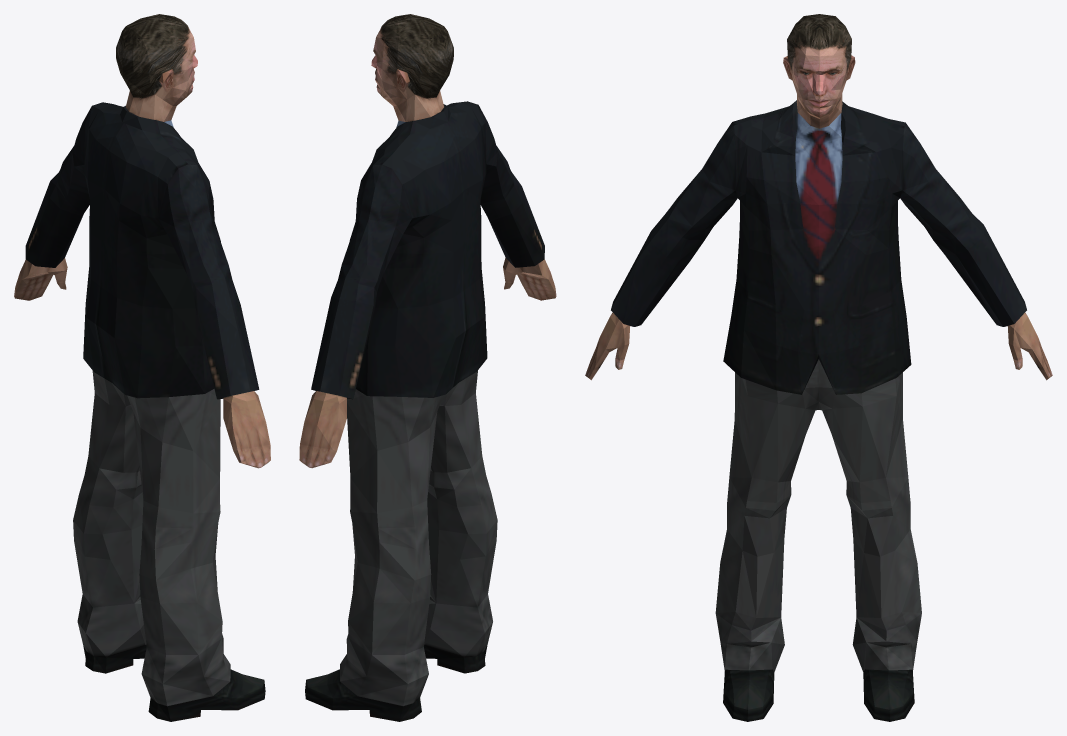
File: torino.obj
3 views of the same model, side by side, from view 1: azimuth 30°, elevation 25°; view 2: azimuth 150°, elevation 25°; view 3: azimuth 270°, elevation 25° (orthographic).
Visible parts, largest first — view 1: _Pelvis; view 2: _Pelvis; view 3: _Pelvis.
Boxes of the visible parts, x1,y1,x2,y2 form: _Pelvis: (14,14,270,721); _Pelvis: (299,14,556,721); _Pelvis: (585,14,1052,721).
Bounding box in the file's own units: 0.3753 × 1.84 × 1.17.
Materials: 1 (1 with a texture image).
